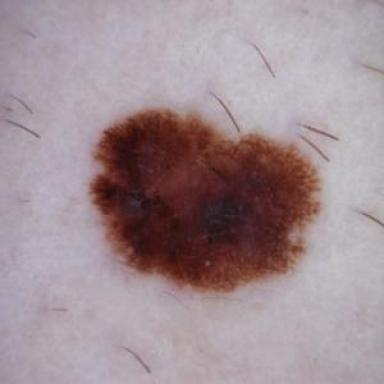Melanoma: (90, 109, 320, 291)
